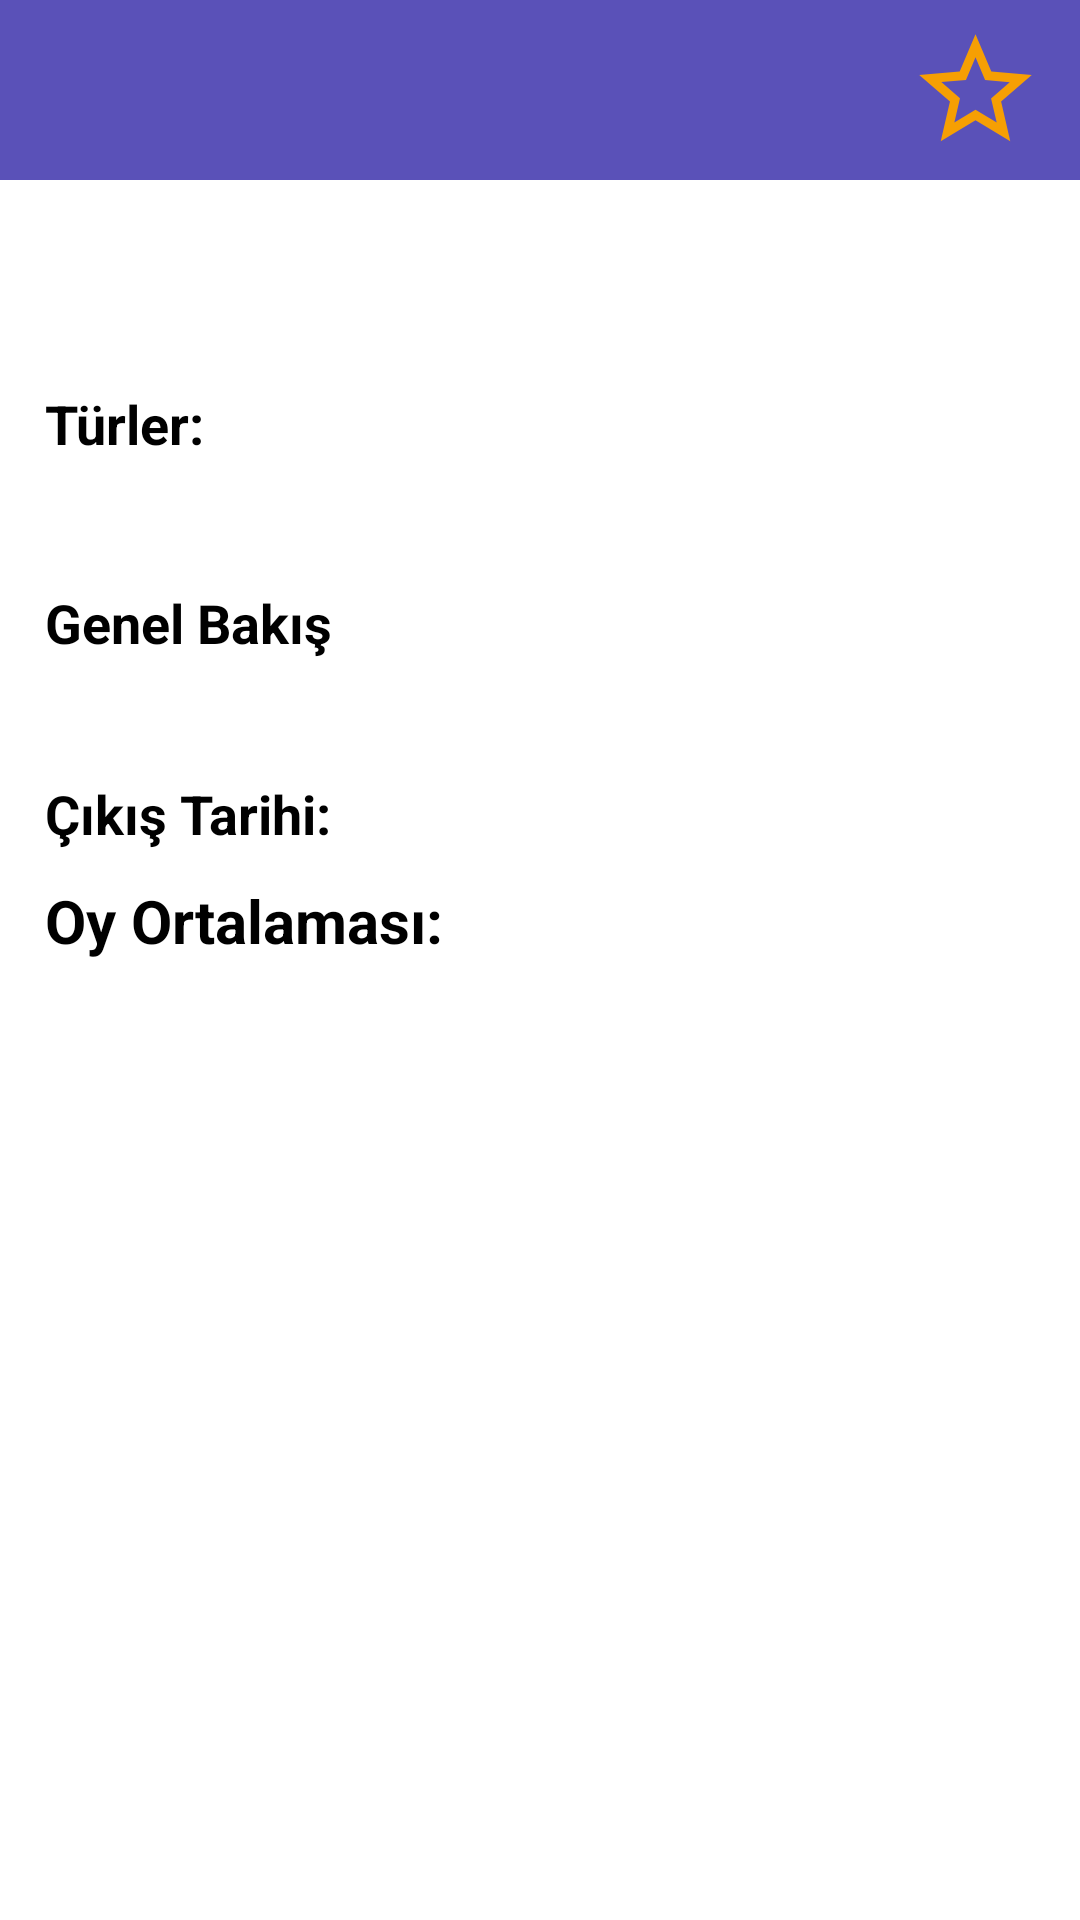

Icon click points for this 1080*1920 phone screenshot, format point (x, y):
star border: point (975, 87)
